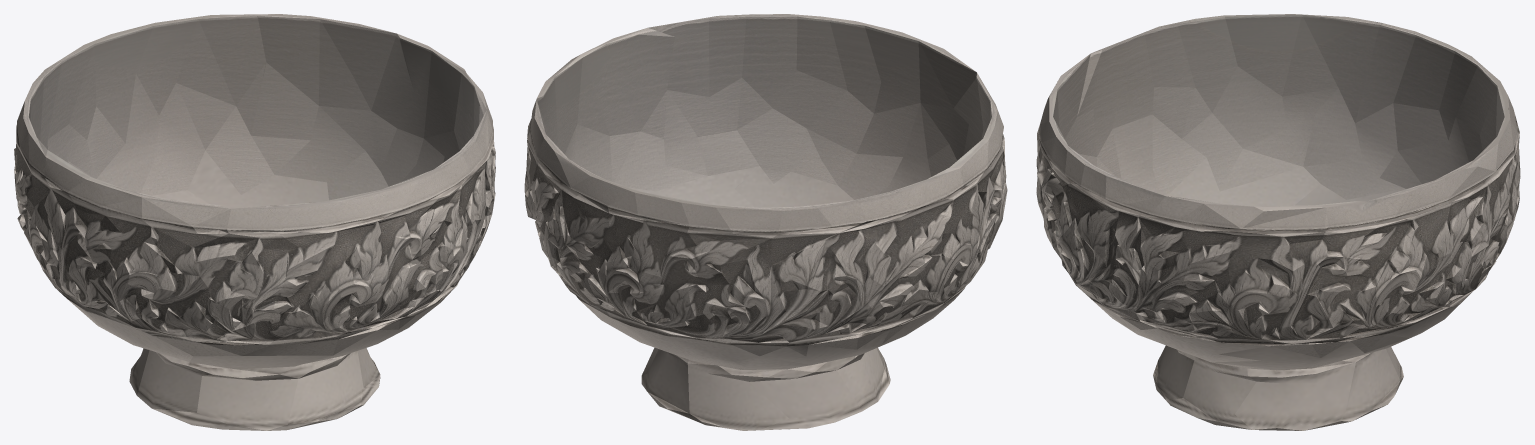
File: remeshed-bowl.glb
The picture shows the model from 3 angles, left to right: view 1: azimuth 30°, elevation 25°; view 2: azimuth 150°, elevation 25°; view 3: azimuth 270°, elevation 25°; orthographic projection.
Parts seen in each view (by area): view 1: output_unwrapped; view 2: output_unwrapped; view 3: output_unwrapped.
Part boxes in pixels (x1,y1,x2,y2): output_unwrapped: [14, 14, 495, 430]; output_unwrapped: [524, 14, 1007, 430]; output_unwrapped: [1036, 14, 1520, 430].
Size of the model in its own units: 1.9 by 1.17 by 1.9.
1 material, 1 textured.
